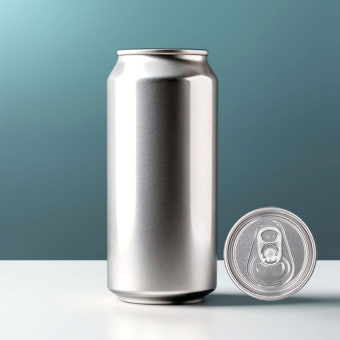paper: (100, 45, 221, 311), (221, 206, 318, 304)
